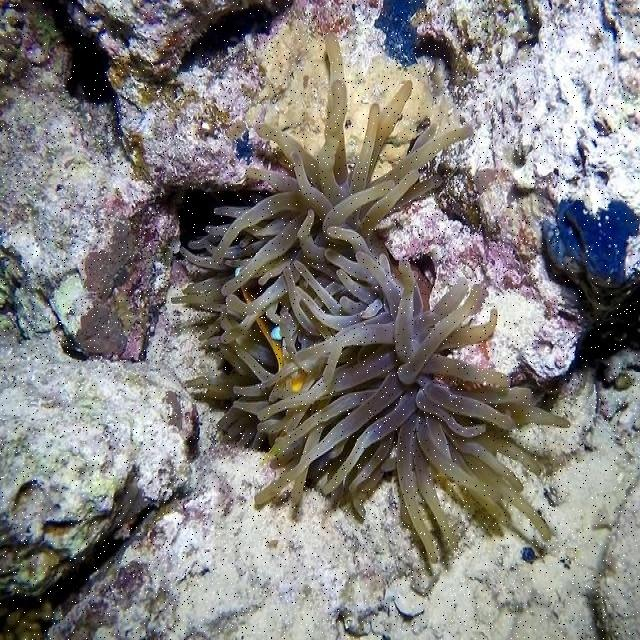reefs: (171, 33, 570, 561)
sea-floor: (0, 313, 200, 597)
